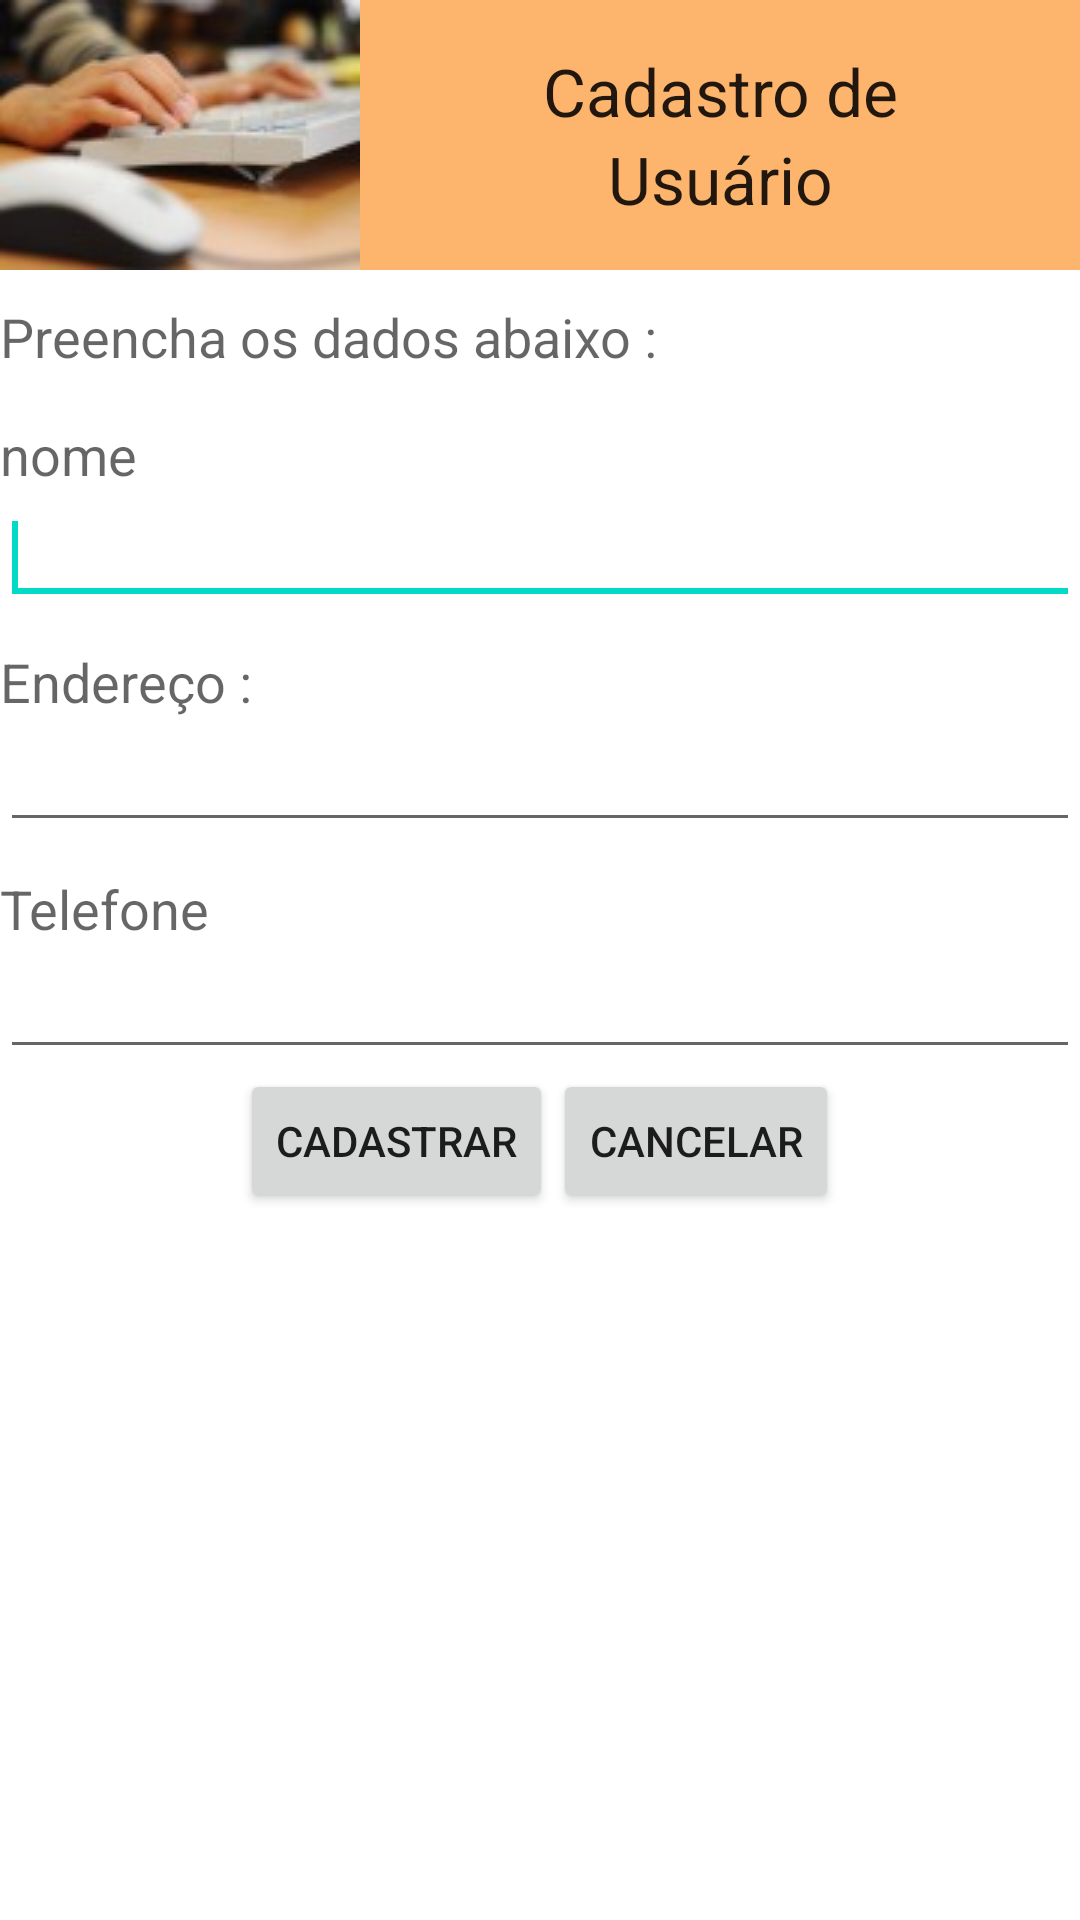

Where to tap for icons on this 1080 x 1920 app screen, as [x,y]:
programa: [180,135]
